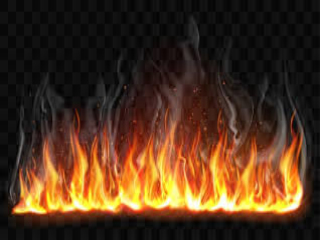fire: (19, 128, 304, 215)
